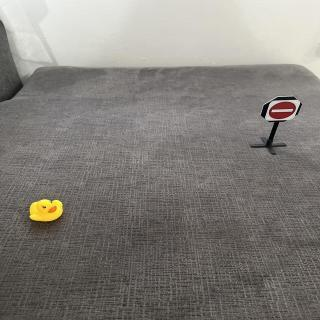duck_regular: (29, 197, 66, 226)
sign_noentry: (265, 99, 304, 123)
